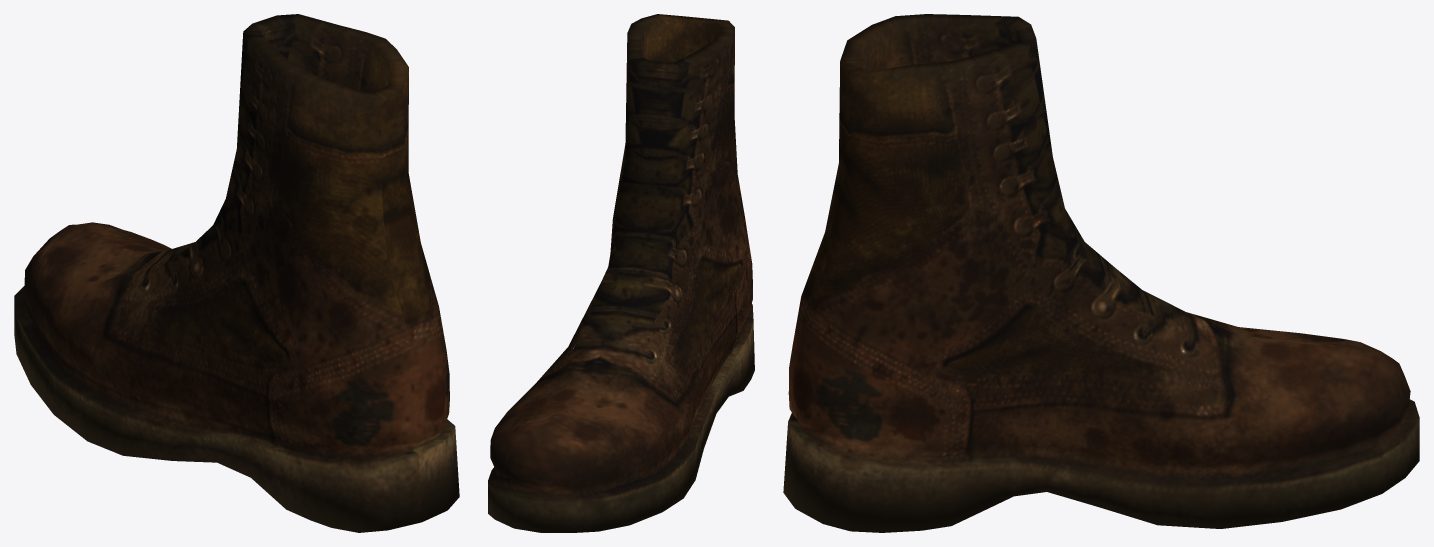
The model's file is Army_boots_edited.fbx.
3 views of the same model, side by side, from view 1: azimuth 30°, elevation 25°; view 2: azimuth 150°, elevation 25°; view 3: azimuth 270°, elevation 25° (orthographic). The views are drawn at different scales.
Visible parts, largest first — view 1: Plane; view 2: Plane; view 3: Plane.
Boxes of the visible parts, x1,y1,x2,y2 form: Plane: (14,14,459,532); Plane: (488,14,754,532); Plane: (783,14,1419,532).
Size of the model in its own units: 337 by 677 by 836.
